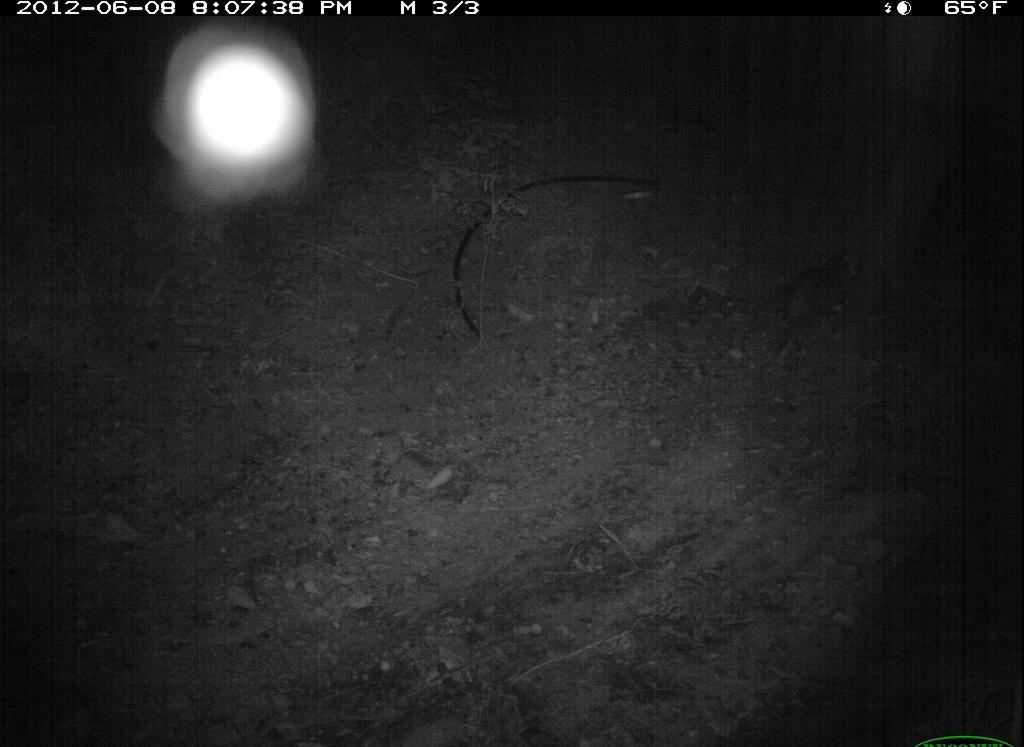cat: (761, 236, 890, 373)
